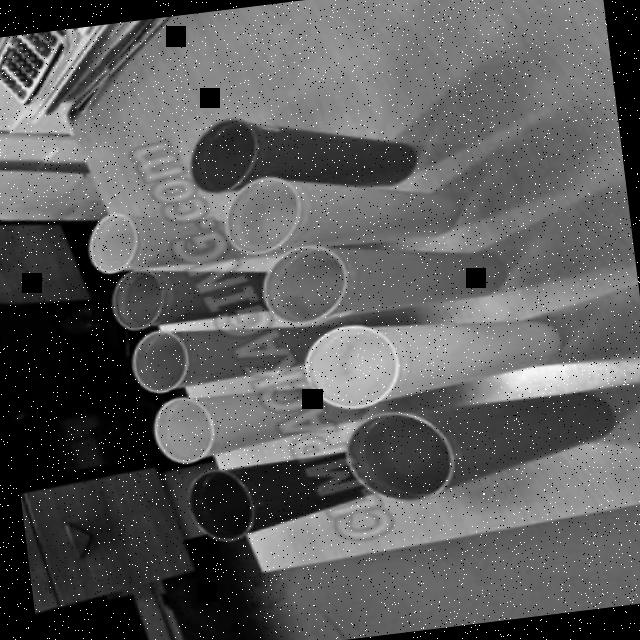plastic_cup: (339, 386, 618, 508), (298, 301, 566, 412), (214, 152, 466, 262), (178, 96, 424, 208), (254, 226, 505, 328), (148, 374, 370, 466), (179, 446, 383, 546), (126, 309, 336, 397), (84, 192, 288, 279), (104, 248, 320, 330)
